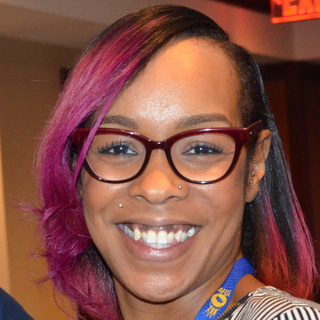eye: (94, 140, 140, 166), (176, 139, 225, 162)
